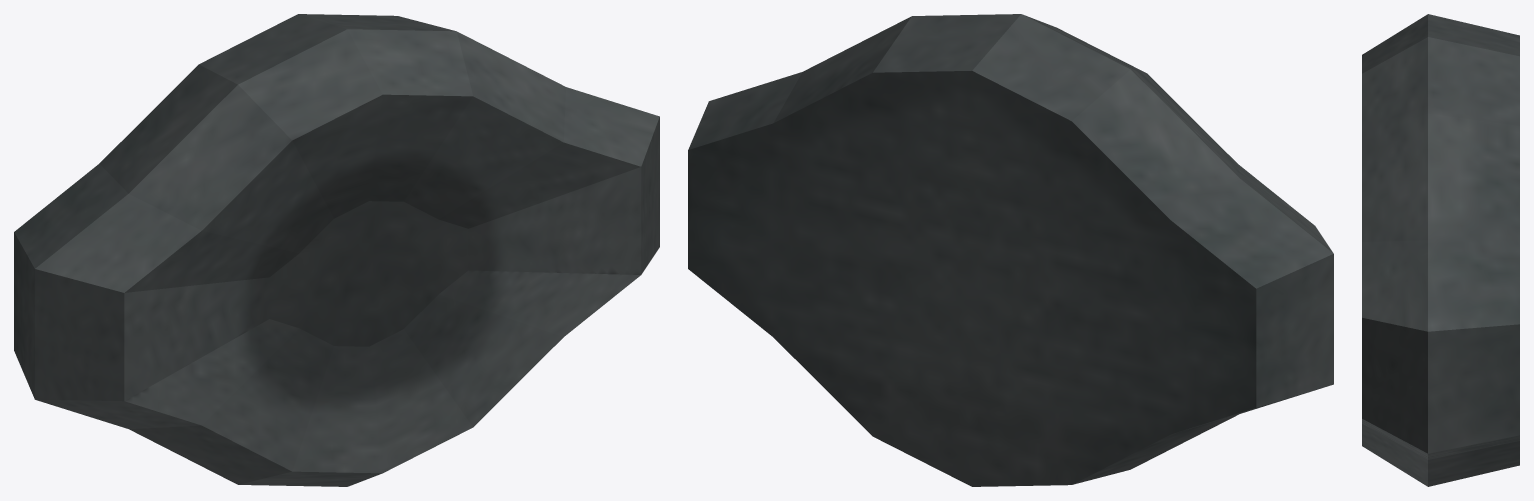
File: ironguard.obj
The picture shows the model from 3 angles, left to right: view 1: azimuth 30°, elevation 25°; view 2: azimuth 150°, elevation 25°; view 3: azimuth 270°, elevation 25°; orthographic projection. The views are drawn at different scales.
Visible parts, largest first — view 1: Base; view 2: Base; view 3: Base.
Boxes of the visible parts, x1,y1,x2,y2 form: Base: (14,14,659,486); Base: (688,14,1333,486); Base: (1362,14,1519,486).
Size of the model in its own units: 0.4974 by 0.3482 by 0.1167.
